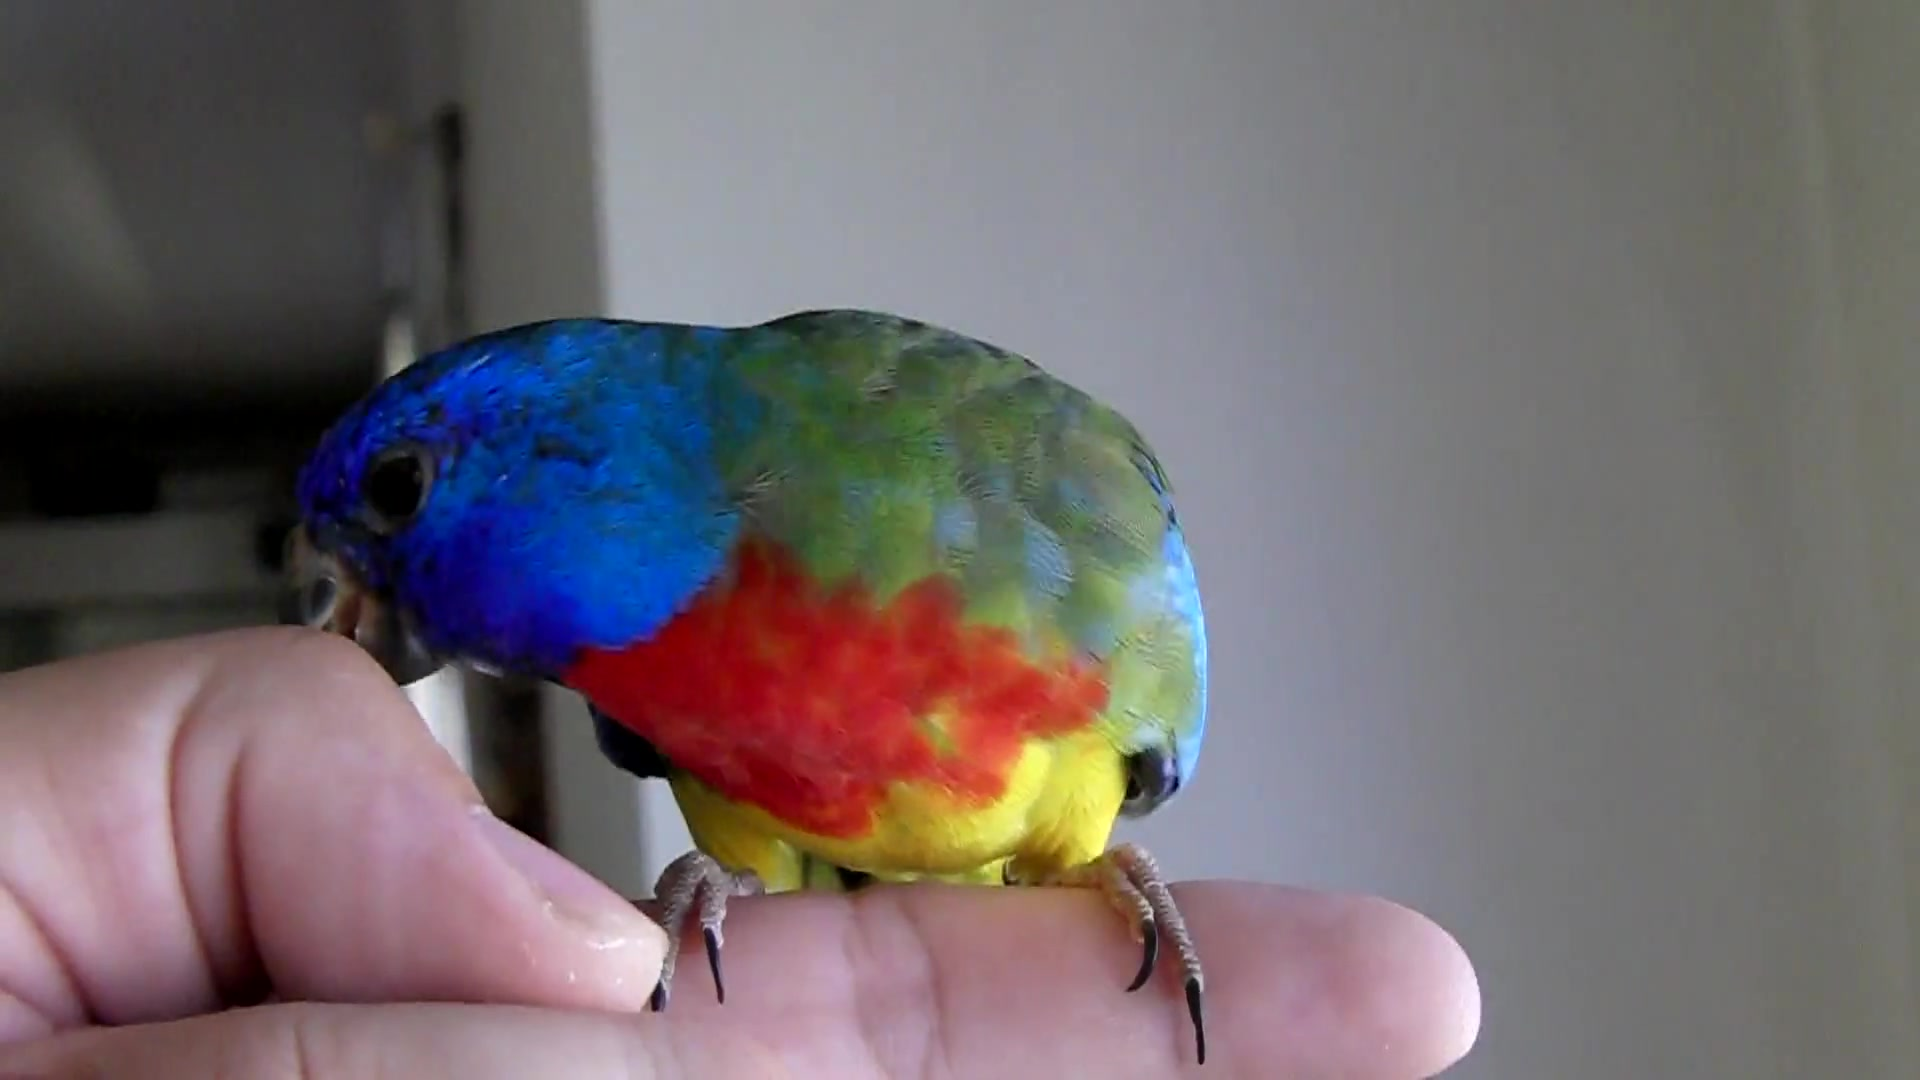bird: (285, 306, 1213, 1068)
